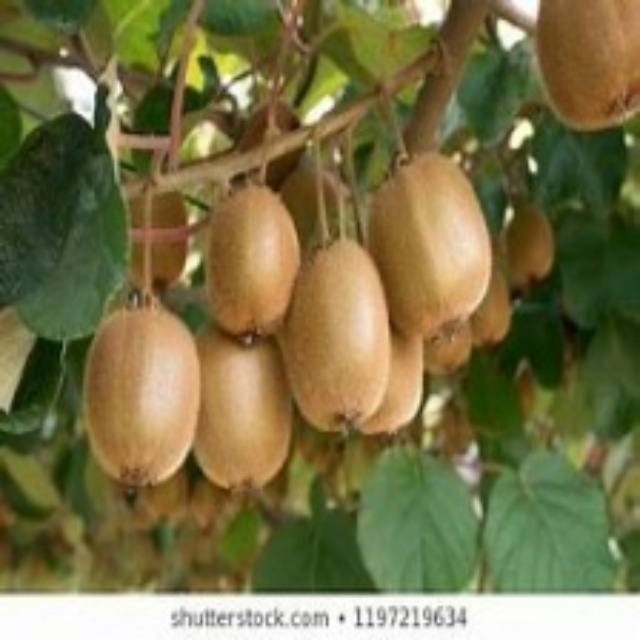kiwi: (367, 152, 496, 347), (276, 247, 398, 435), (181, 328, 308, 501), (82, 302, 194, 487), (201, 180, 293, 338), (527, 3, 639, 126), (489, 196, 573, 300)
